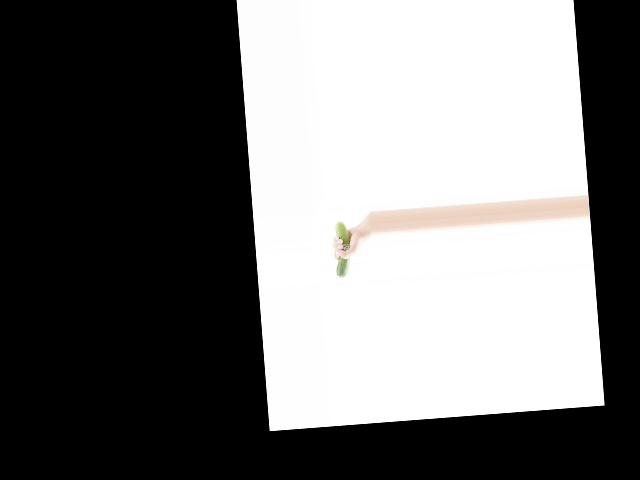cucumber: (331, 221, 352, 277)
